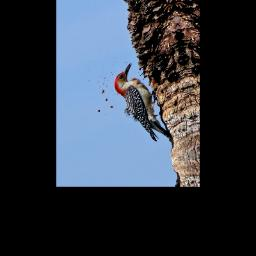Woodpecker: (111, 54, 174, 156)
